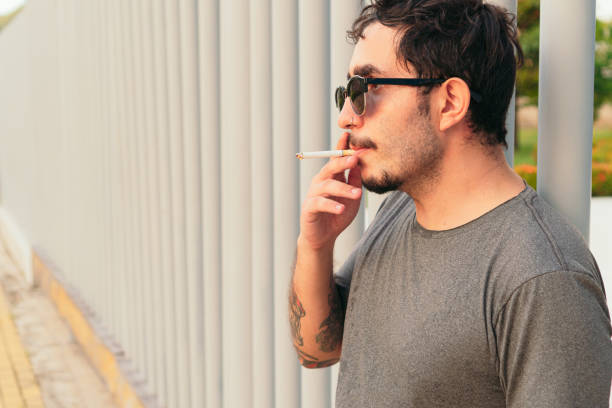cigarette: (295, 149, 355, 160)
